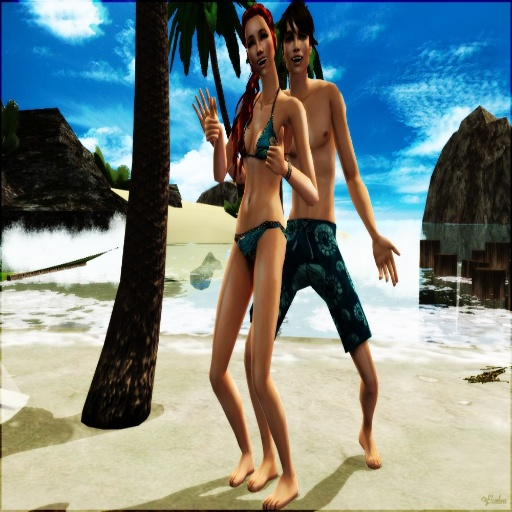hand: (372, 217, 405, 285), (192, 85, 222, 144), (266, 124, 285, 174), (204, 97, 221, 140)
